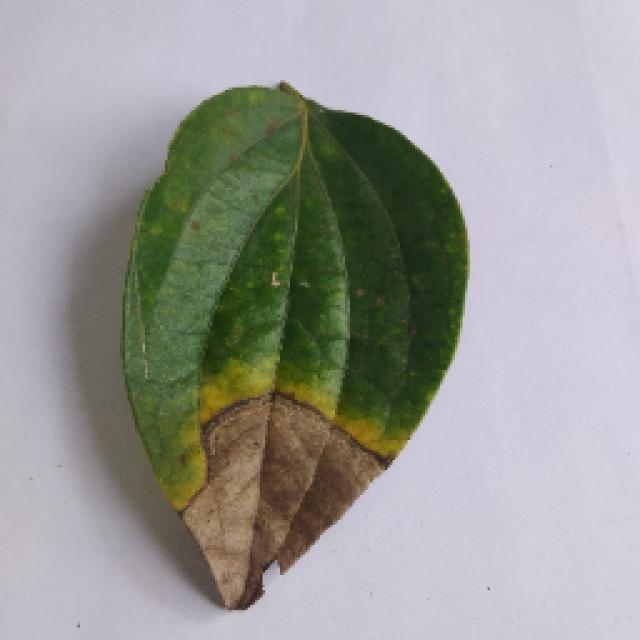footrot: (118, 82, 468, 612)
